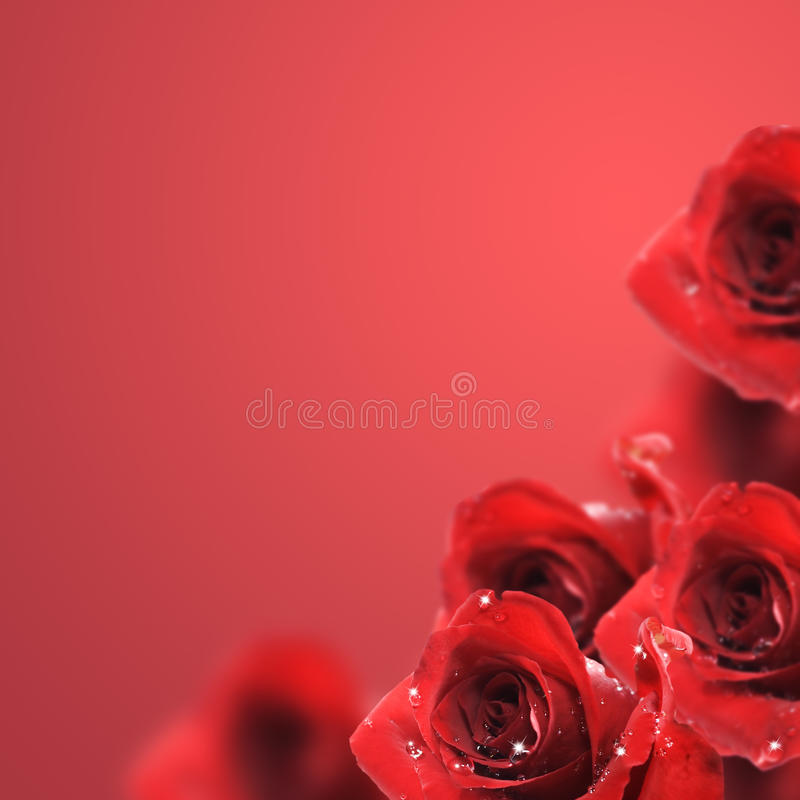RedRose: (643, 134, 800, 392), (377, 617, 602, 794), (458, 443, 604, 641), (666, 499, 800, 658)
